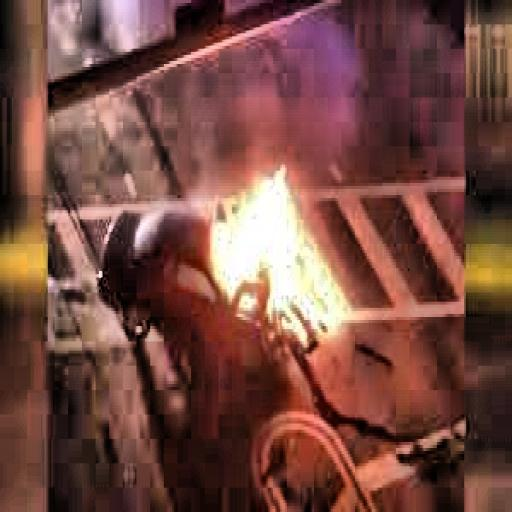fire: (200, 162, 362, 356)
